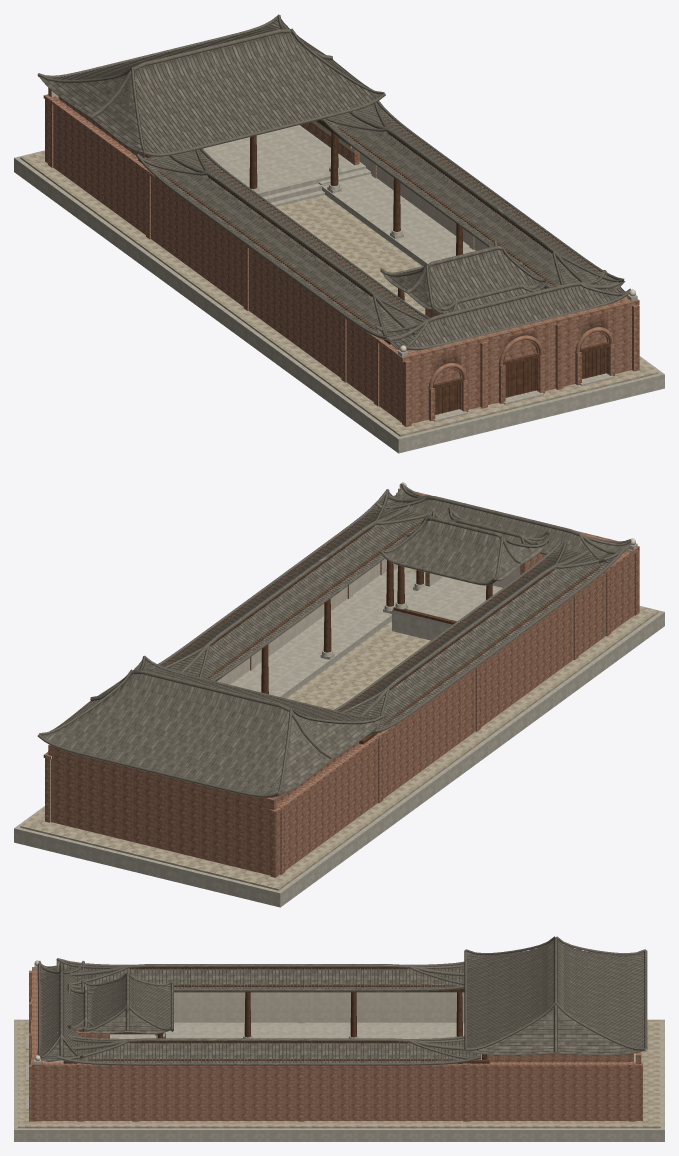
Rendered from stage-b.glb.
3 views of the same model, one above another, from view 1: azimuth 30°, elevation 25°; view 2: azimuth 150°, elevation 25°; view 3: azimuth 270°, elevation 25° (orthographic). The views are drawn at different scales.
Visible parts, largest first — view 1: 03_MainHall, 02_Enclosure, 01_Base, 07_Entrance, 05_EastGallery, 04_WestGallery, 06_Stage; view 2: 02_Enclosure, 03_MainHall, 01_Base, 05_EastGallery, 04_WestGallery, 06_Stage, 07_Entrance; view 3: 02_Enclosure, 03_MainHall, 01_Base, 04_WestGallery, 05_EastGallery, 06_Stage, 07_Entrance.
Part boxes in pixels (x1,y1,x2,y2): 03_MainHall: (37, 14, 385, 206); 02_Enclosure: (43, 88, 627, 420); 01_Base: (14, 150, 664, 453); 07_Entrance: (375, 270, 639, 426); 05_EastGallery: (317, 101, 625, 295); 04_WestGallery: (136, 148, 445, 344); 06_Stage: (380, 240, 548, 350); 02_Enclosure: (43, 551, 630, 877); 03_MainHall: (37, 655, 385, 803); 01_Base: (14, 567, 664, 907); 05_EastGallery: (157, 489, 439, 698); 04_WestGallery: (334, 540, 626, 744); 06_Stage: (380, 508, 549, 640); 07_Entrance: (375, 482, 639, 617); 02_Enclosure: (42, 992, 642, 1121); 03_MainHall: (464, 936, 647, 1062); 01_Base: (14, 1019, 664, 1141); 04_WestGallery: (56, 958, 464, 1038); 05_EastGallery: (56, 1032, 489, 1065); 06_Stage: (67, 973, 173, 1038); 07_Entrance: (26, 960, 84, 1121).
Size of the model in its own units: 11.8 by 5.97 by 29.5.
Materials: 13 (10 with a texture image).
